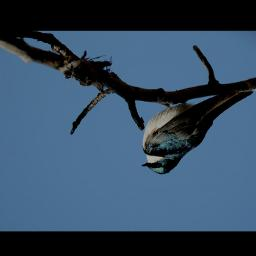Swallow: (140, 88, 254, 176)
